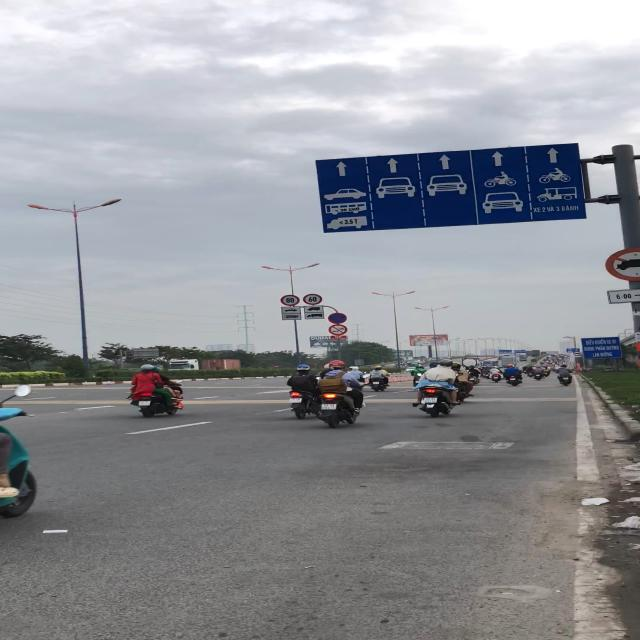Bien bao cam dung xe va do xe: (327, 312, 347, 324)
Bien bao toc do toi da cho phep: (280, 294, 302, 306), (302, 293, 323, 305)
